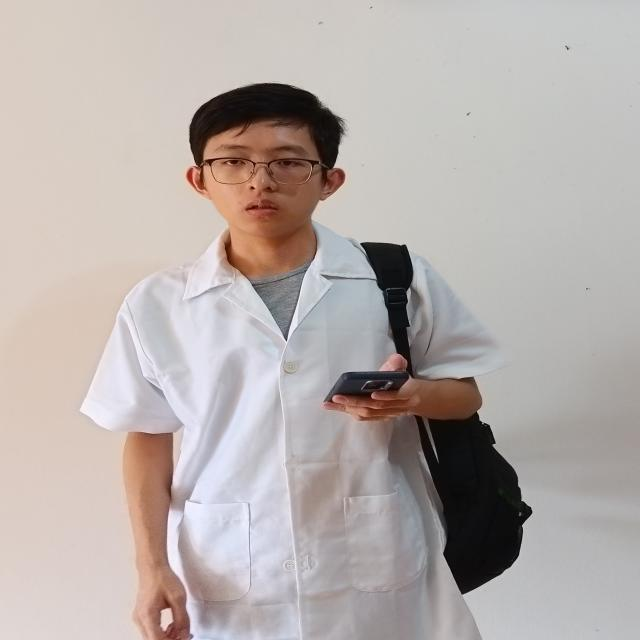person_with_labcoat: (81, 83, 531, 640)
